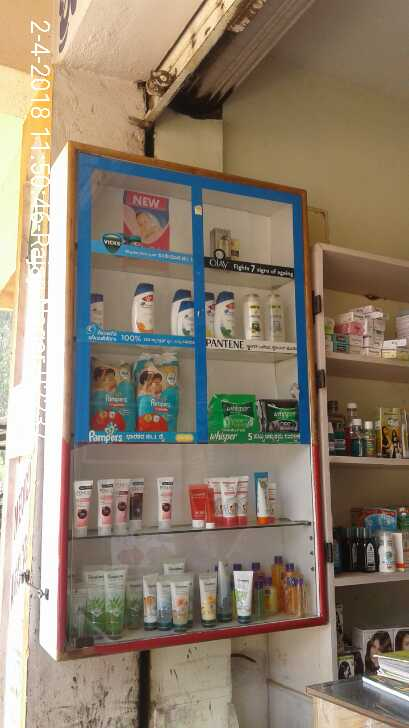vicks: (126, 237, 140, 247)
